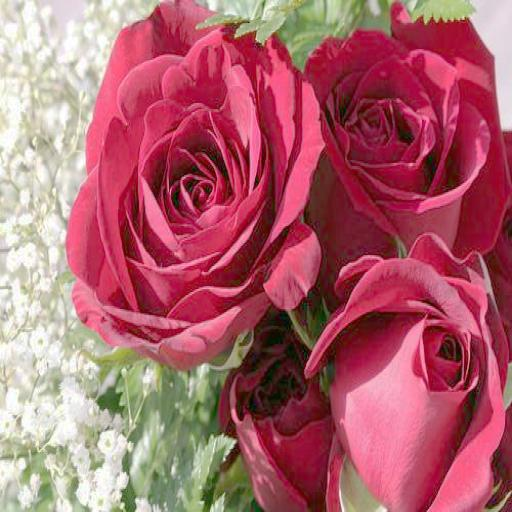rose: (322, 238, 512, 511)
